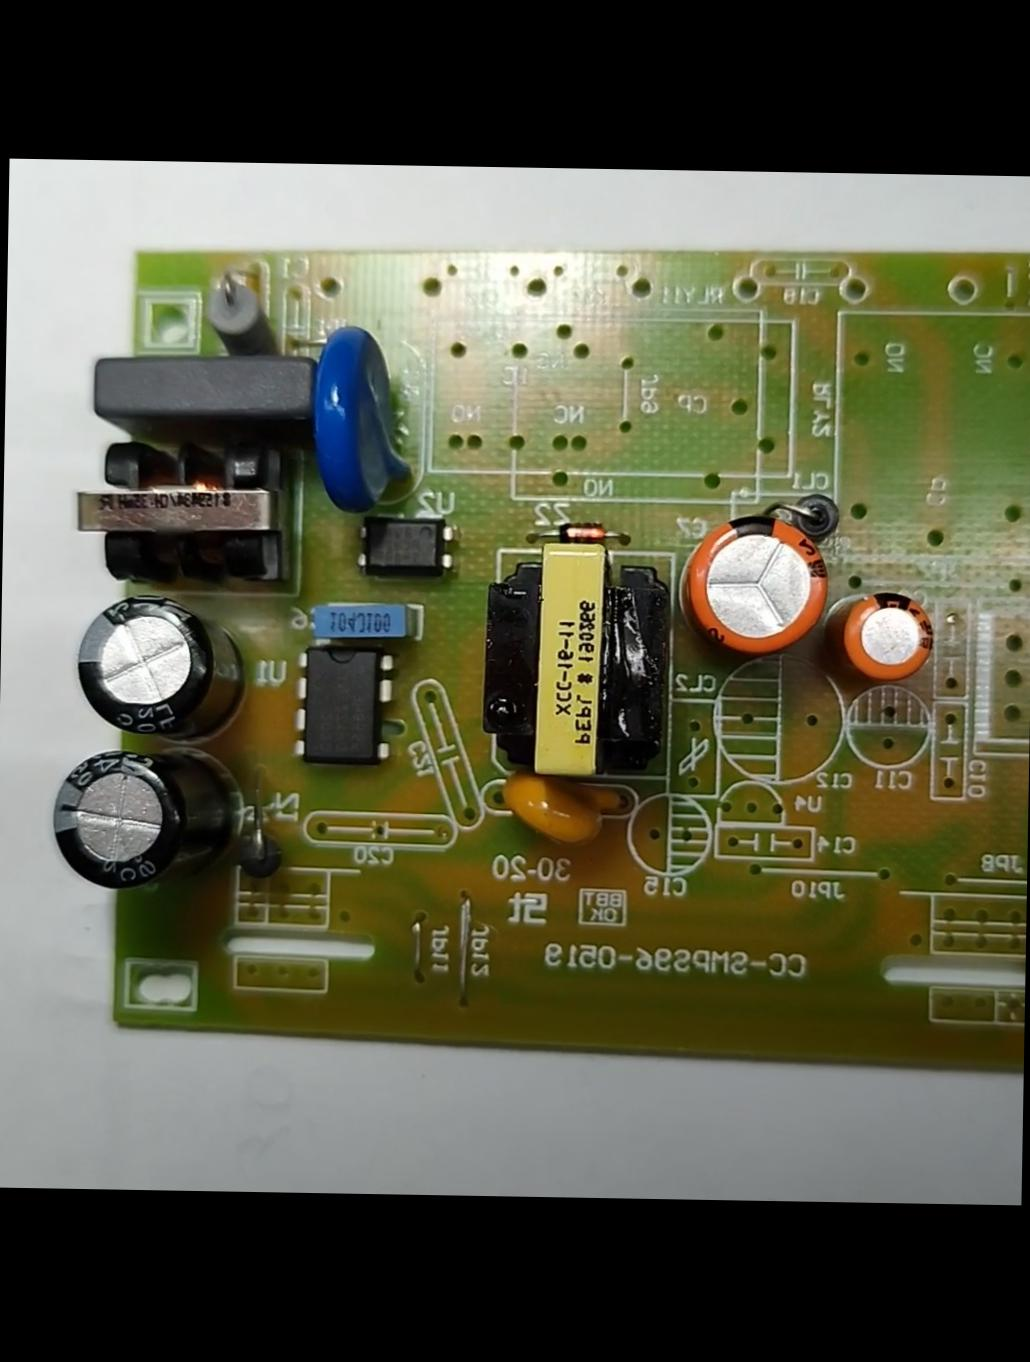Cap1: (686, 512, 828, 656)
Cap2: (838, 590, 936, 683)
Cap3: (68, 593, 251, 743)
Cap4: (48, 744, 243, 892)
MOSFET: (291, 640, 397, 763)
Mov: (308, 318, 413, 520)
Resistor: (194, 273, 289, 358)
Transformer: (476, 537, 682, 782), (67, 423, 301, 590)
